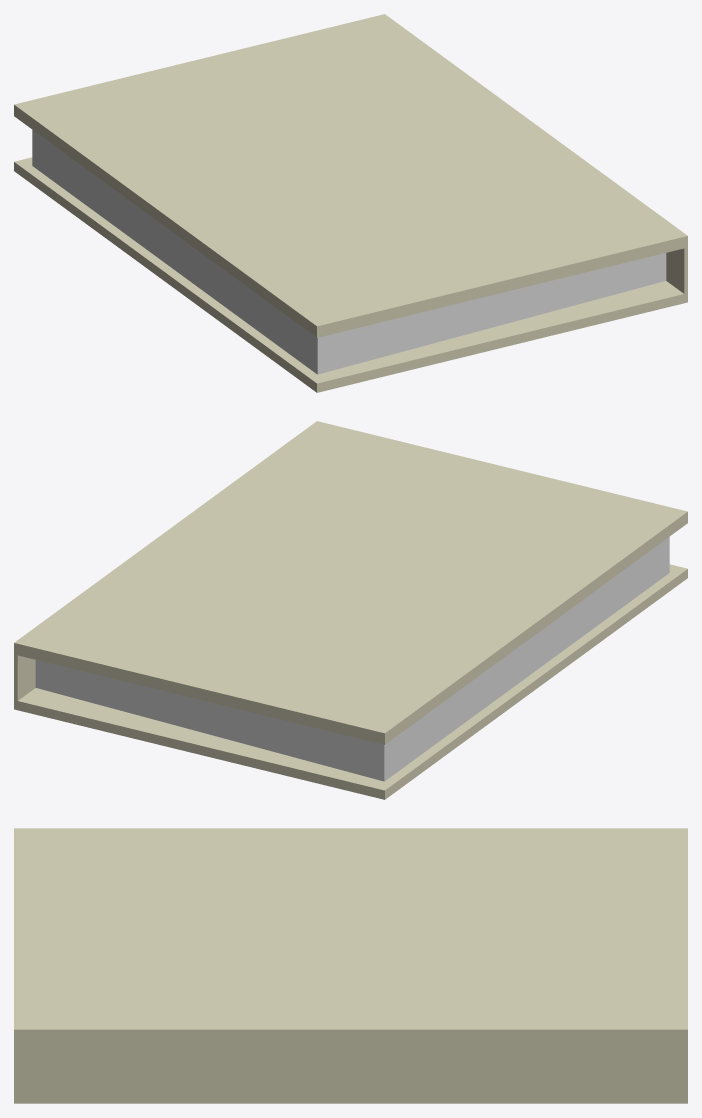
Rendered from Book2.fbx.
3 views of the same model, one above another, from view 1: azimuth 30°, elevation 25°; view 2: azimuth 150°, elevation 25°; view 3: azimuth 270°, elevation 25° (orthographic). The views are drawn at different scales.
Parts seen in each view (by area): view 1: Book2; view 2: Book2; view 3: Book2.
Boxes of the visible parts, box(x1,y1,x2,y2) form: Book2: box(14, 14, 687, 392); Book2: box(14, 421, 687, 799); Book2: box(14, 828, 687, 1103).
Size of the model in its own units: 0.4892 by 0.0839 by 0.6923.
